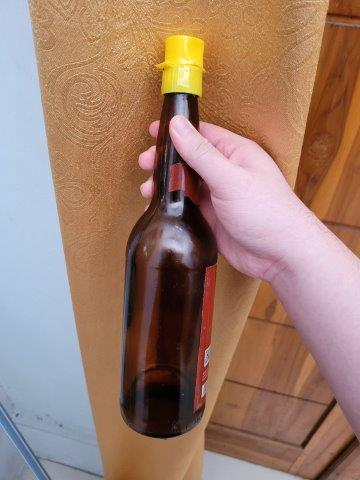botolkaca: (122, 34, 217, 440)
